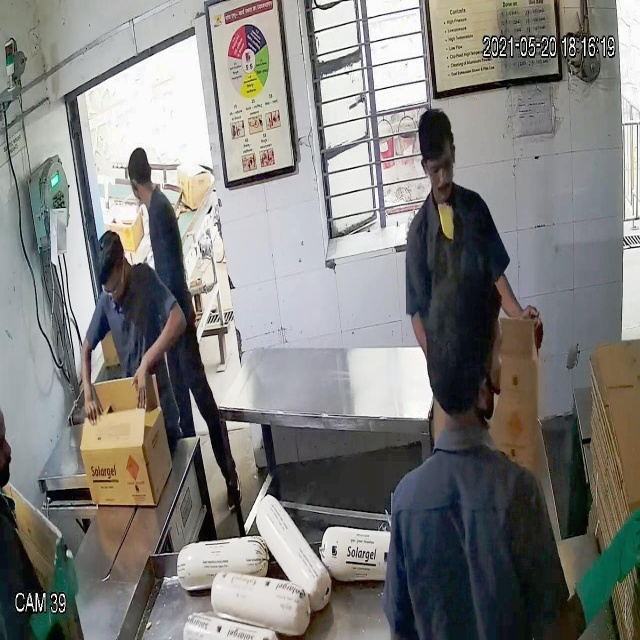Gafas: (416, 148, 464, 191), (99, 271, 132, 304)
